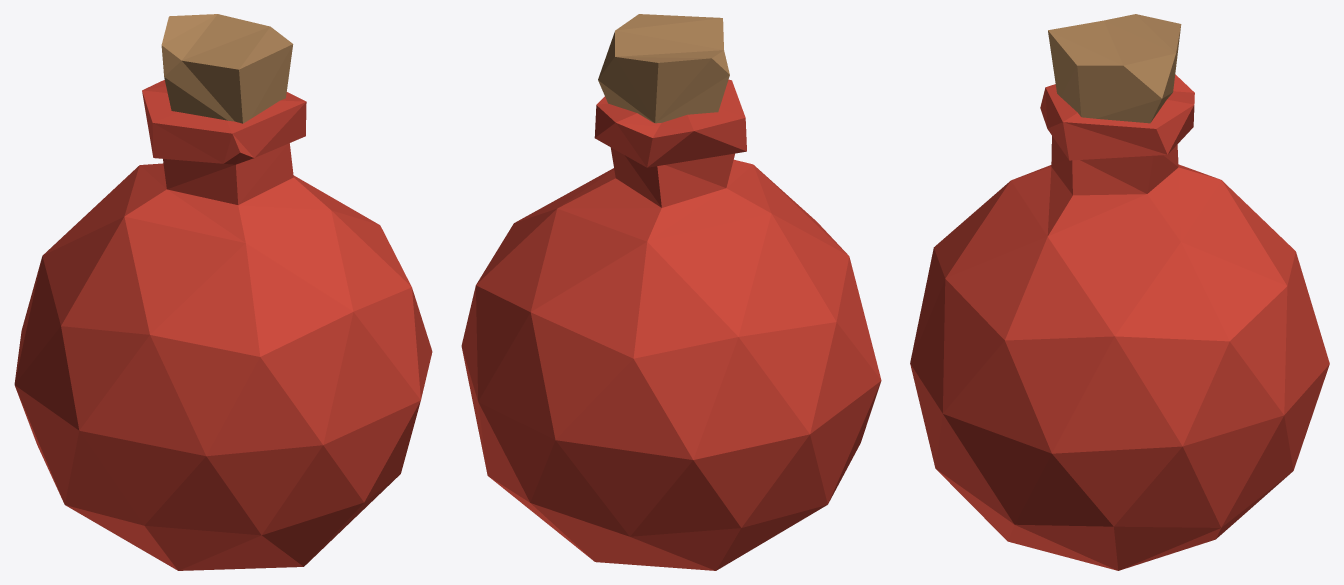
The model's file is AWS_Potion_Red_002.fbx.
3 views of the same model, side by side, from view 1: azimuth 30°, elevation 25°; view 2: azimuth 150°, elevation 25°; view 3: azimuth 270°, elevation 25° (orthographic).
Visible parts, largest first — view 1: AWS_Potion_Red_002; view 2: AWS_Potion_Red_002; view 3: AWS_Potion_Red_002.
Part boxes in pixels (box(x1,y1,x2,y2)): AWS_Potion_Red_002: box(14, 14, 432, 570); AWS_Potion_Red_002: box(461, 14, 881, 570); AWS_Potion_Red_002: box(910, 14, 1329, 570).
Size of the model in its own units: 7.67 by 10.75 by 7.93.
